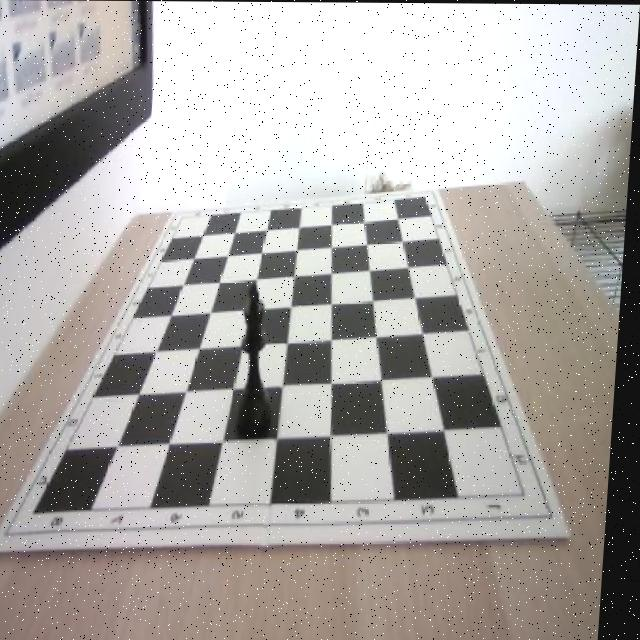black-bishop: (236, 280, 287, 439)
